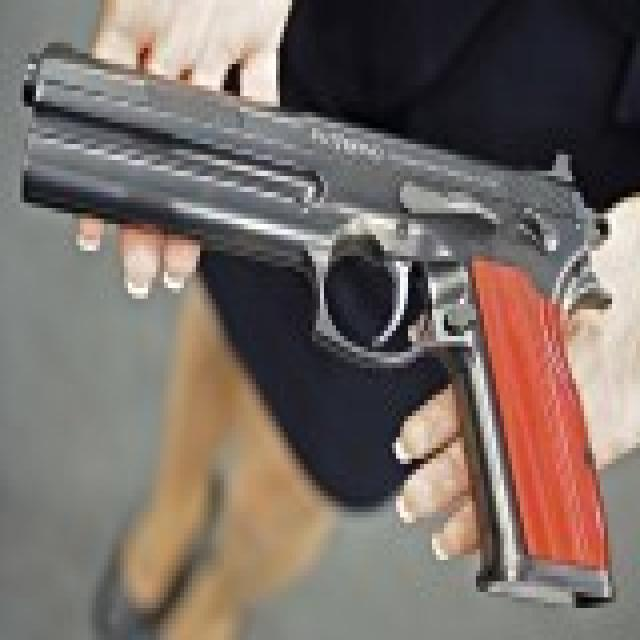Gun: (16, 26, 628, 630)
